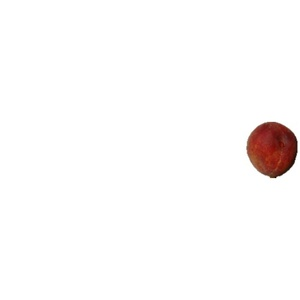pêssego: (247, 122, 298, 181)
